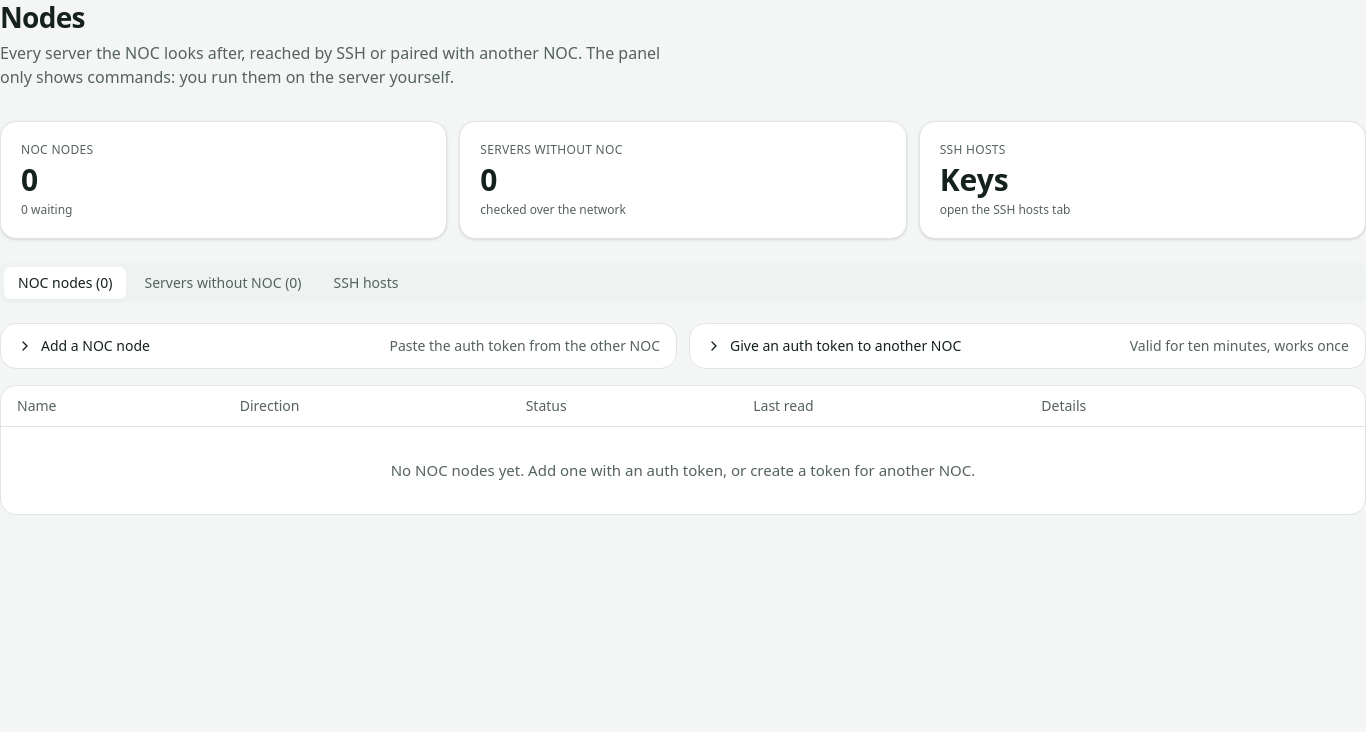
Test case: FleetPage › never shows anything that looks like a private key
Press the mouse on the tab "SSH hosts" at (366, 283), box [320, 267, 413, 299]
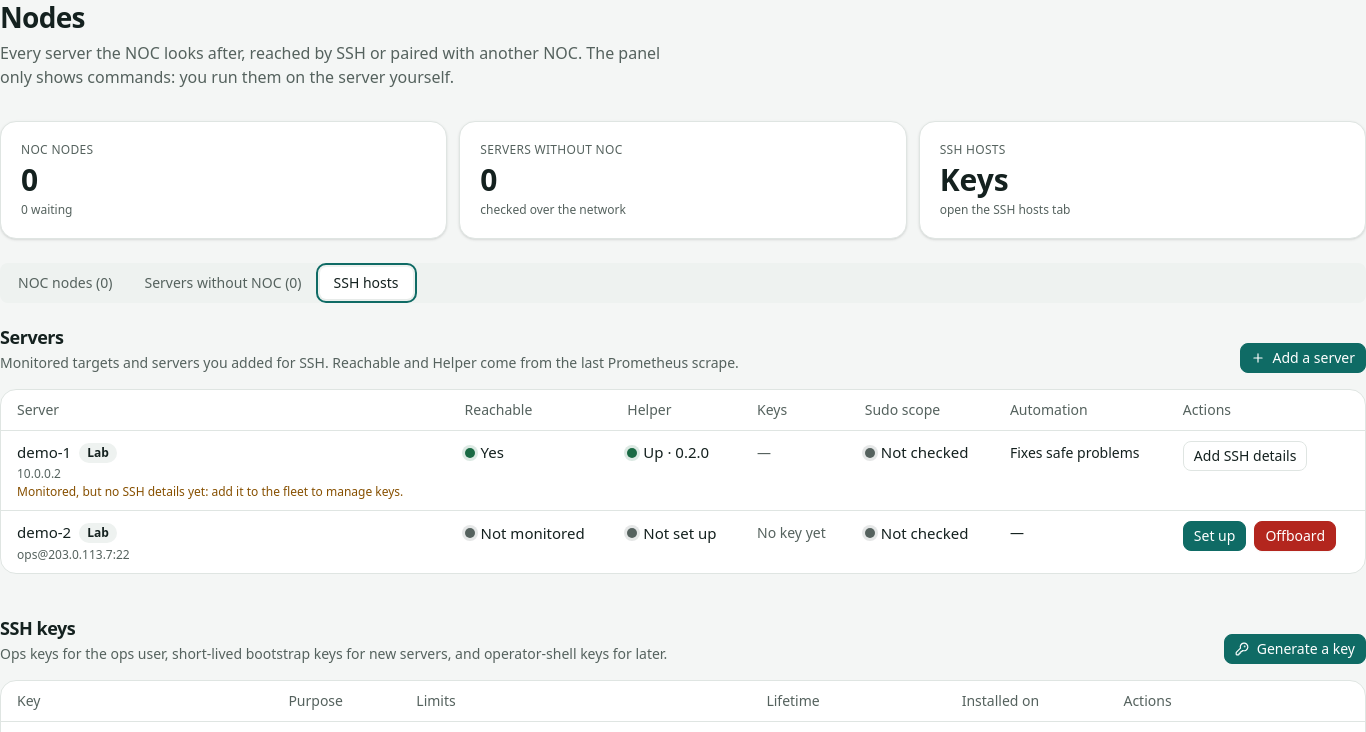
Check: the table named "Server status" is shown, box [1, 390, 1365, 572]
